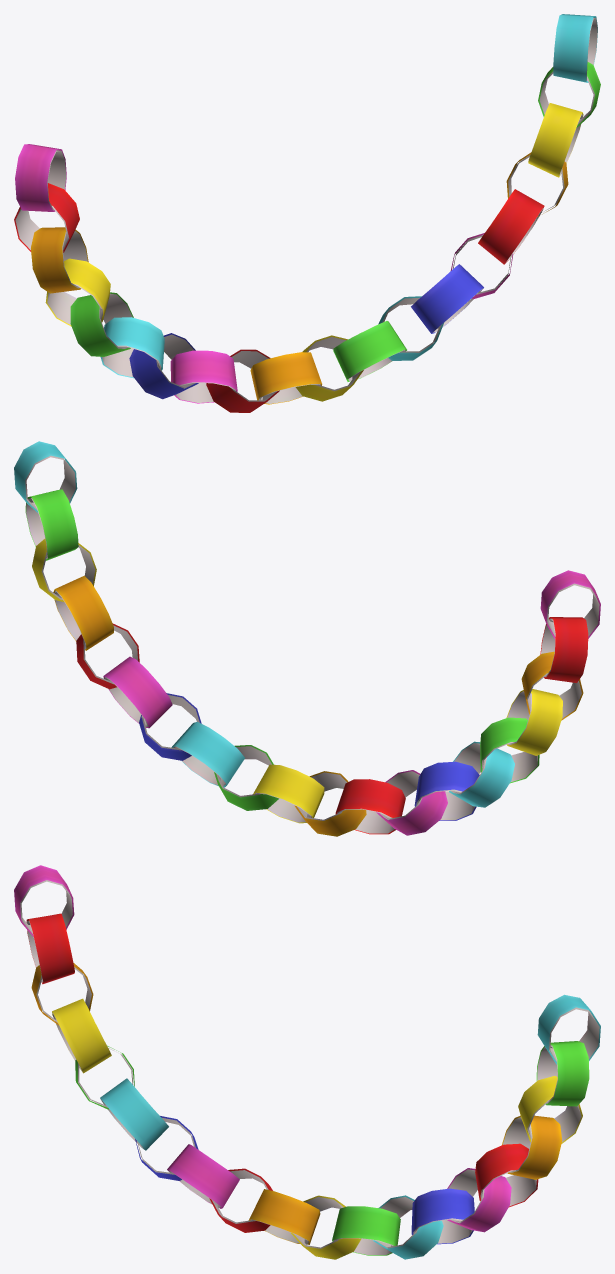
The picture shows the model from 3 angles, top to bottom: view 1: azimuth 30°, elevation 25°; view 2: azimuth 150°, elevation 25°; view 3: azimuth 330°, elevation 25°; orthographic projection.
Bounding box in the file's own units: 19.93 × 10.36 × 1.87.
Materials: 1 (1 with a texture image).
